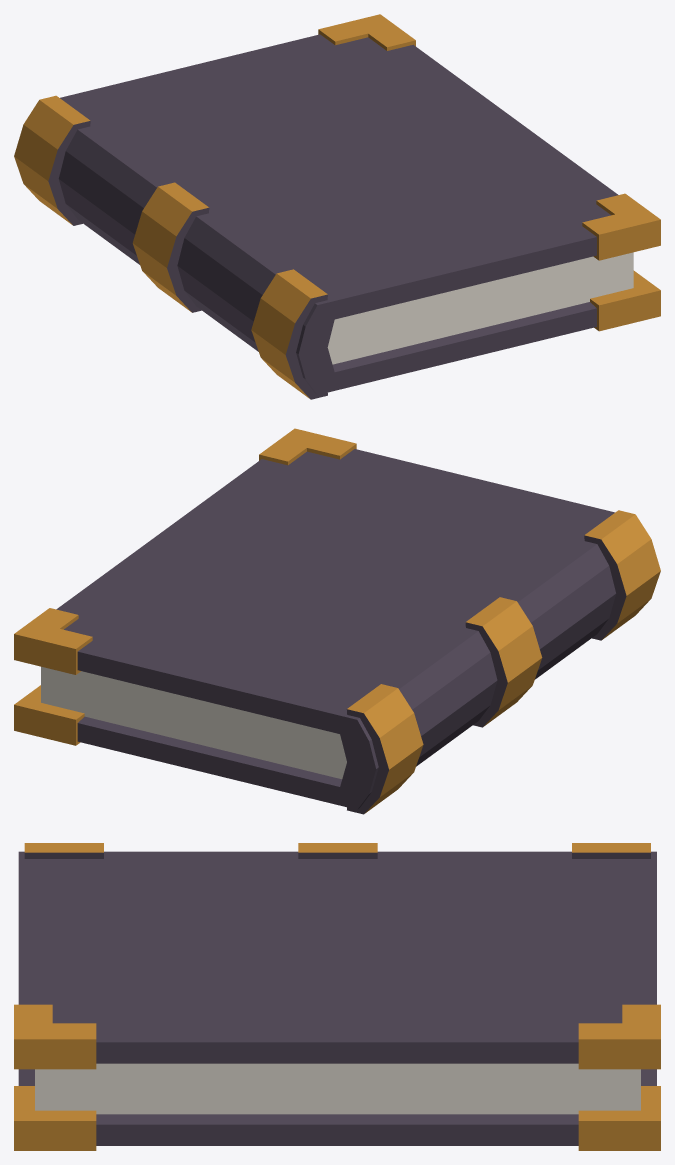
The model's file is Book_02.fbx.
3 views of the same model, one above another, from view 1: azimuth 30°, elevation 25°; view 2: azimuth 150°, elevation 25°; view 3: azimuth 270°, elevation 25° (orthographic). The views are drawn at different scales.
Visible parts, largest first — view 1: Book_02; view 2: Book_02; view 3: Book_02.
Boxes of the visible parts, x1=… form: Book_02: x1=14, y1=14, x2=660, y2=399; Book_02: x1=14, y1=428, x2=660, y2=814; Book_02: x1=14, y1=843, x2=660, y2=1150.
Bounding box in the file's own units: 0.3213 × 0.0838 × 0.4214.
